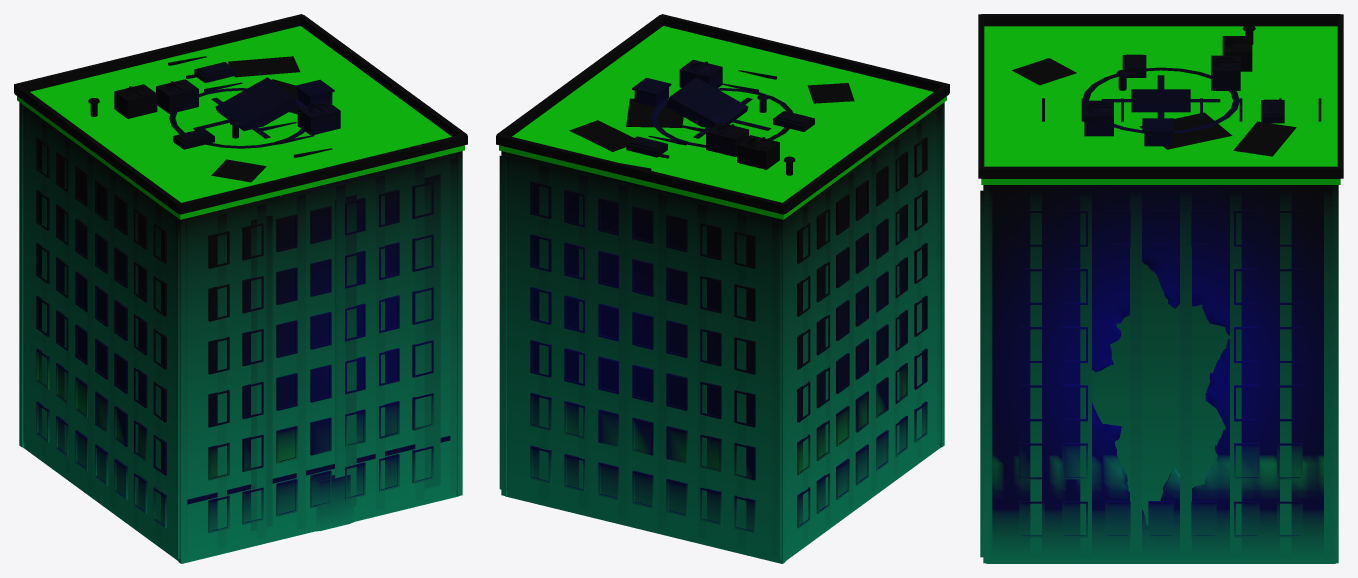
The model's file is city6storyc_damaged.glb.
3 renders of one model, left to right at view 1: azimuth 30°, elevation 25°; view 2: azimuth 150°, elevation 25°; view 3: azimuth 270°, elevation 25°, orthographic. The views are drawn at different scales.
Parts seen in each view (by area): view 1: lod0; view 2: lod0; view 3: lod0.
Part boxes in pixels (x1,y1,x2,y2): lod0: (14,14,467,563); lod0: (496,14,949,563); lod0: (978,14,1343,563).
Size of what is drawn, in the model's own units: 18.6 by 23.05 by 18.5.
